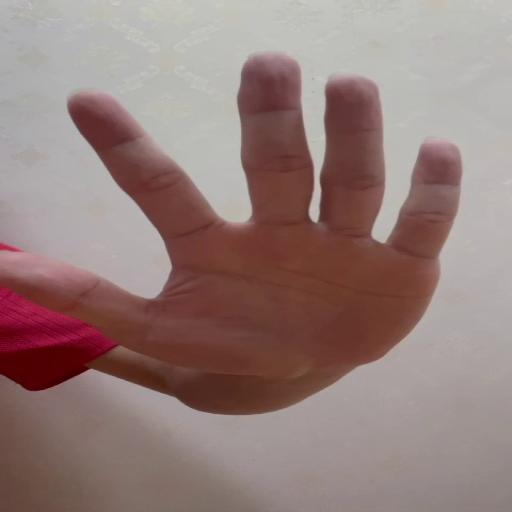open_palm: (5, 49, 464, 376)
